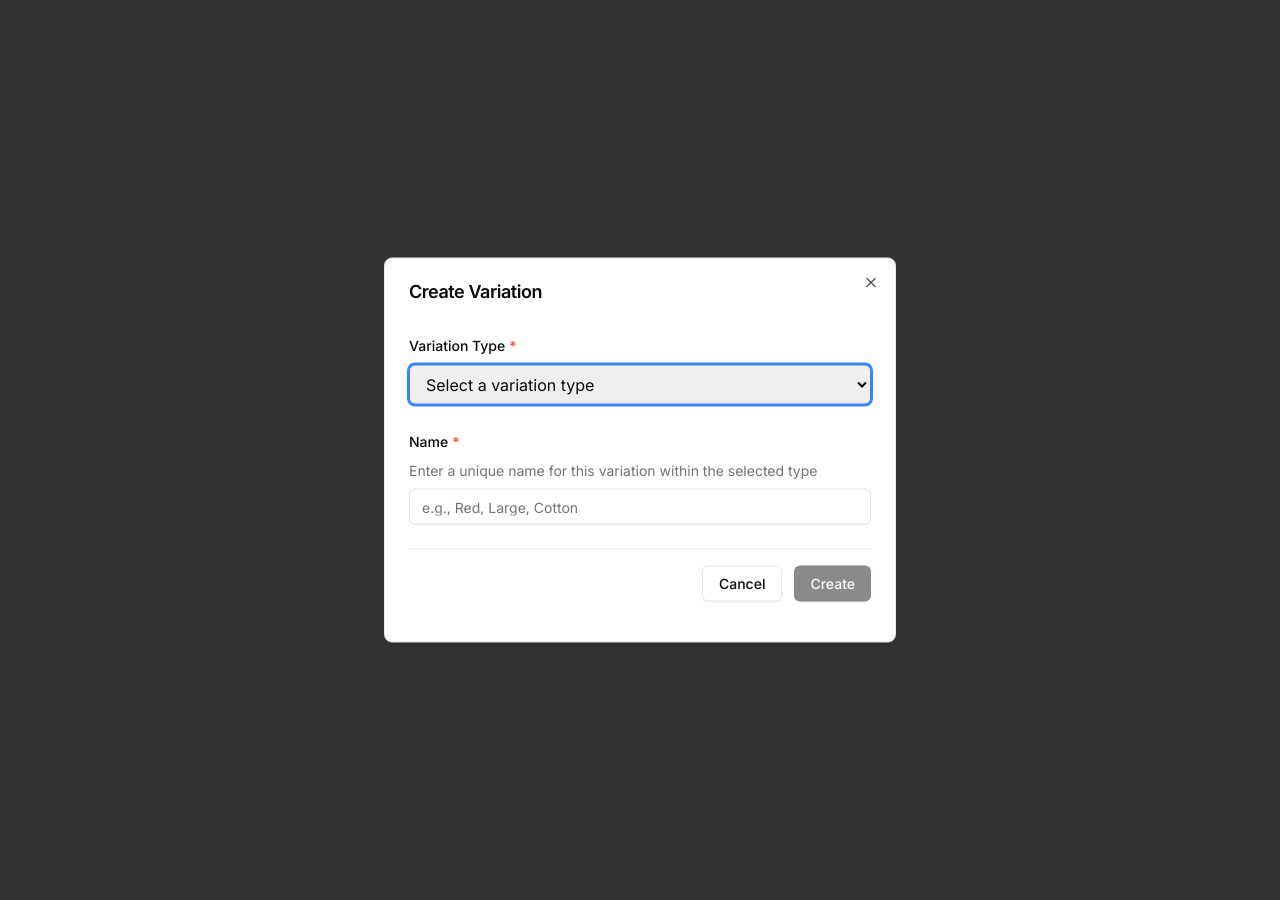
it: VariationForm › validates name format
The image size is (1280, 900).
Select "Color" in the dropdown labelled "Variation Type*" at (640, 384), box x1=409 y1=364 x2=871 y2=404
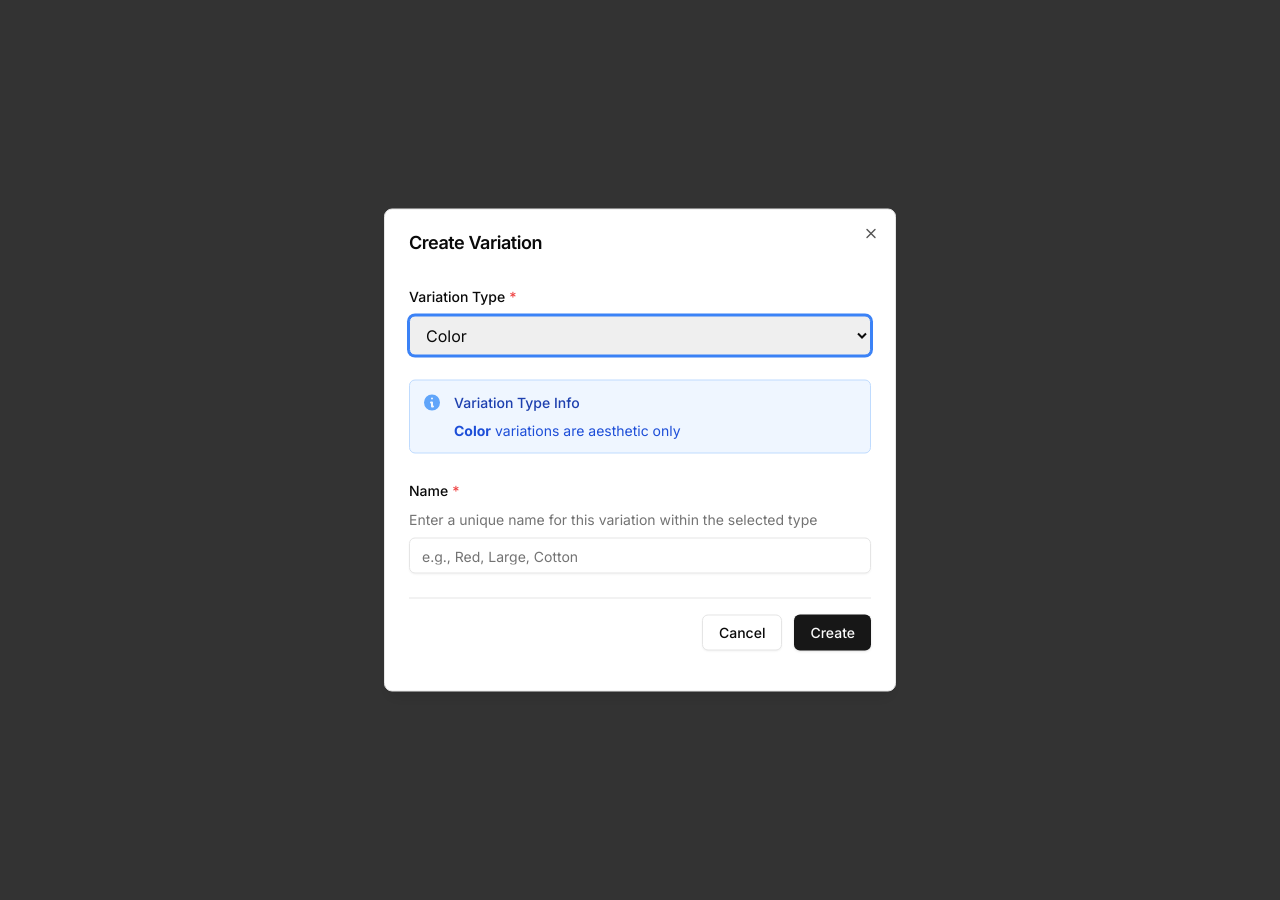
Type "Invalid@Name!" into the field labelled "Name*" at (640, 556), box x1=409 y1=538 x2=871 y2=574
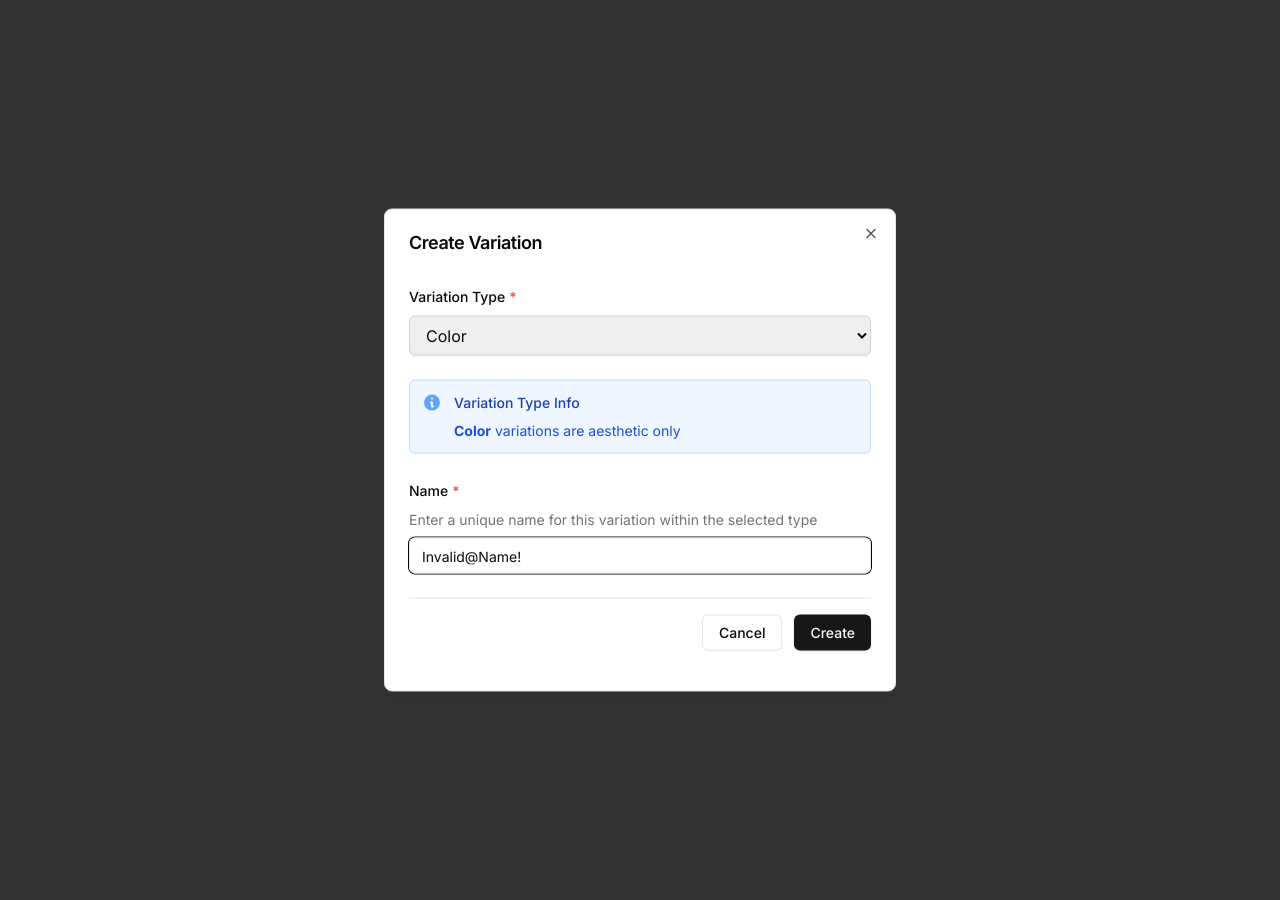
Click the button "Create" at (833, 632), box x1=794 y1=614 x2=871 y2=650
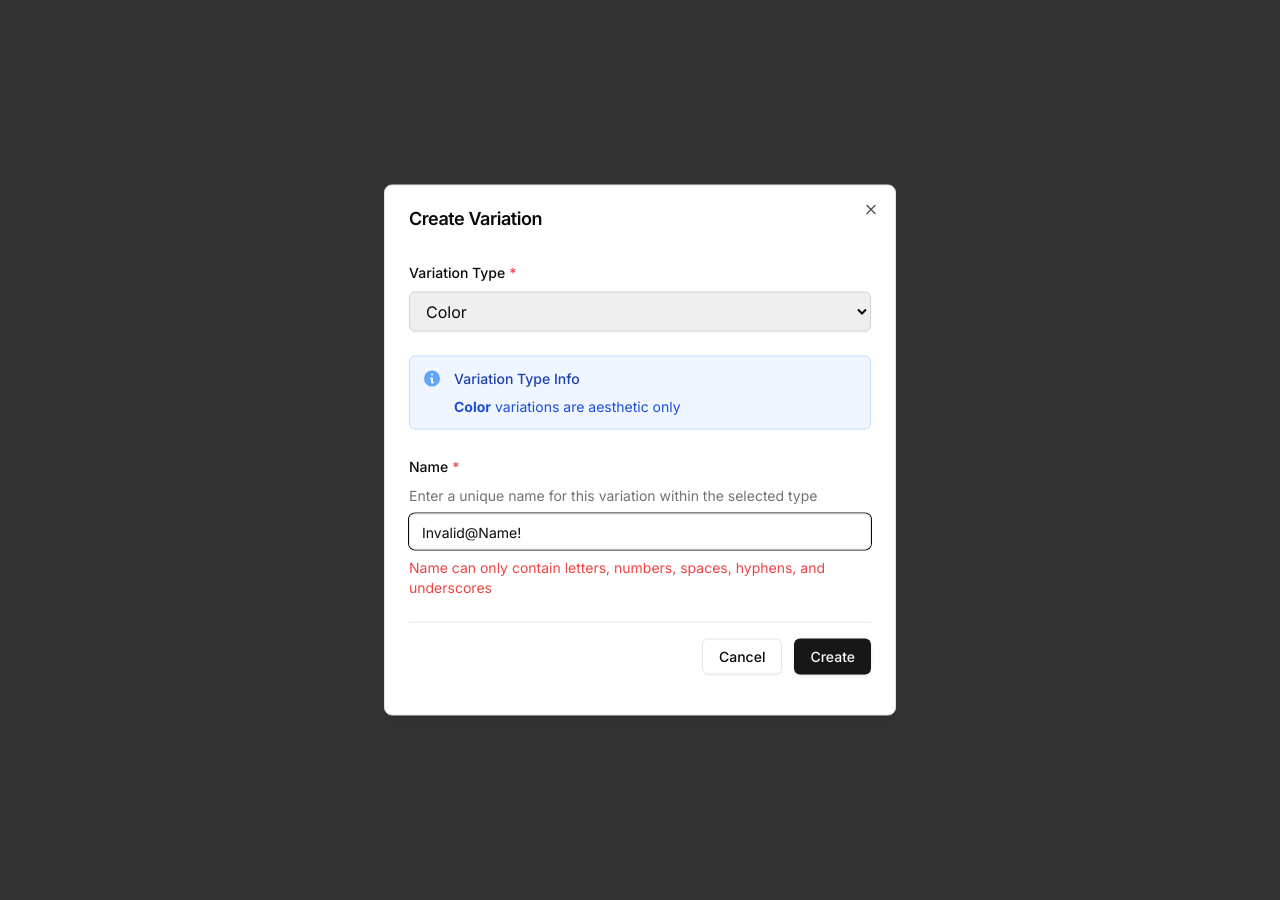
Expected: the text "Name can only contain letters, numbers, spaces, hyphens, and underscores" is shown, x1=409 y1=558 x2=871 y2=598
